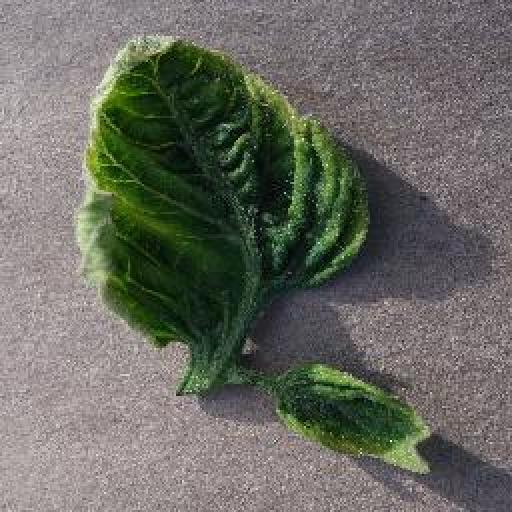Yellow Leaf Curl Virus: (72, 29, 371, 343), (275, 359, 432, 477)
